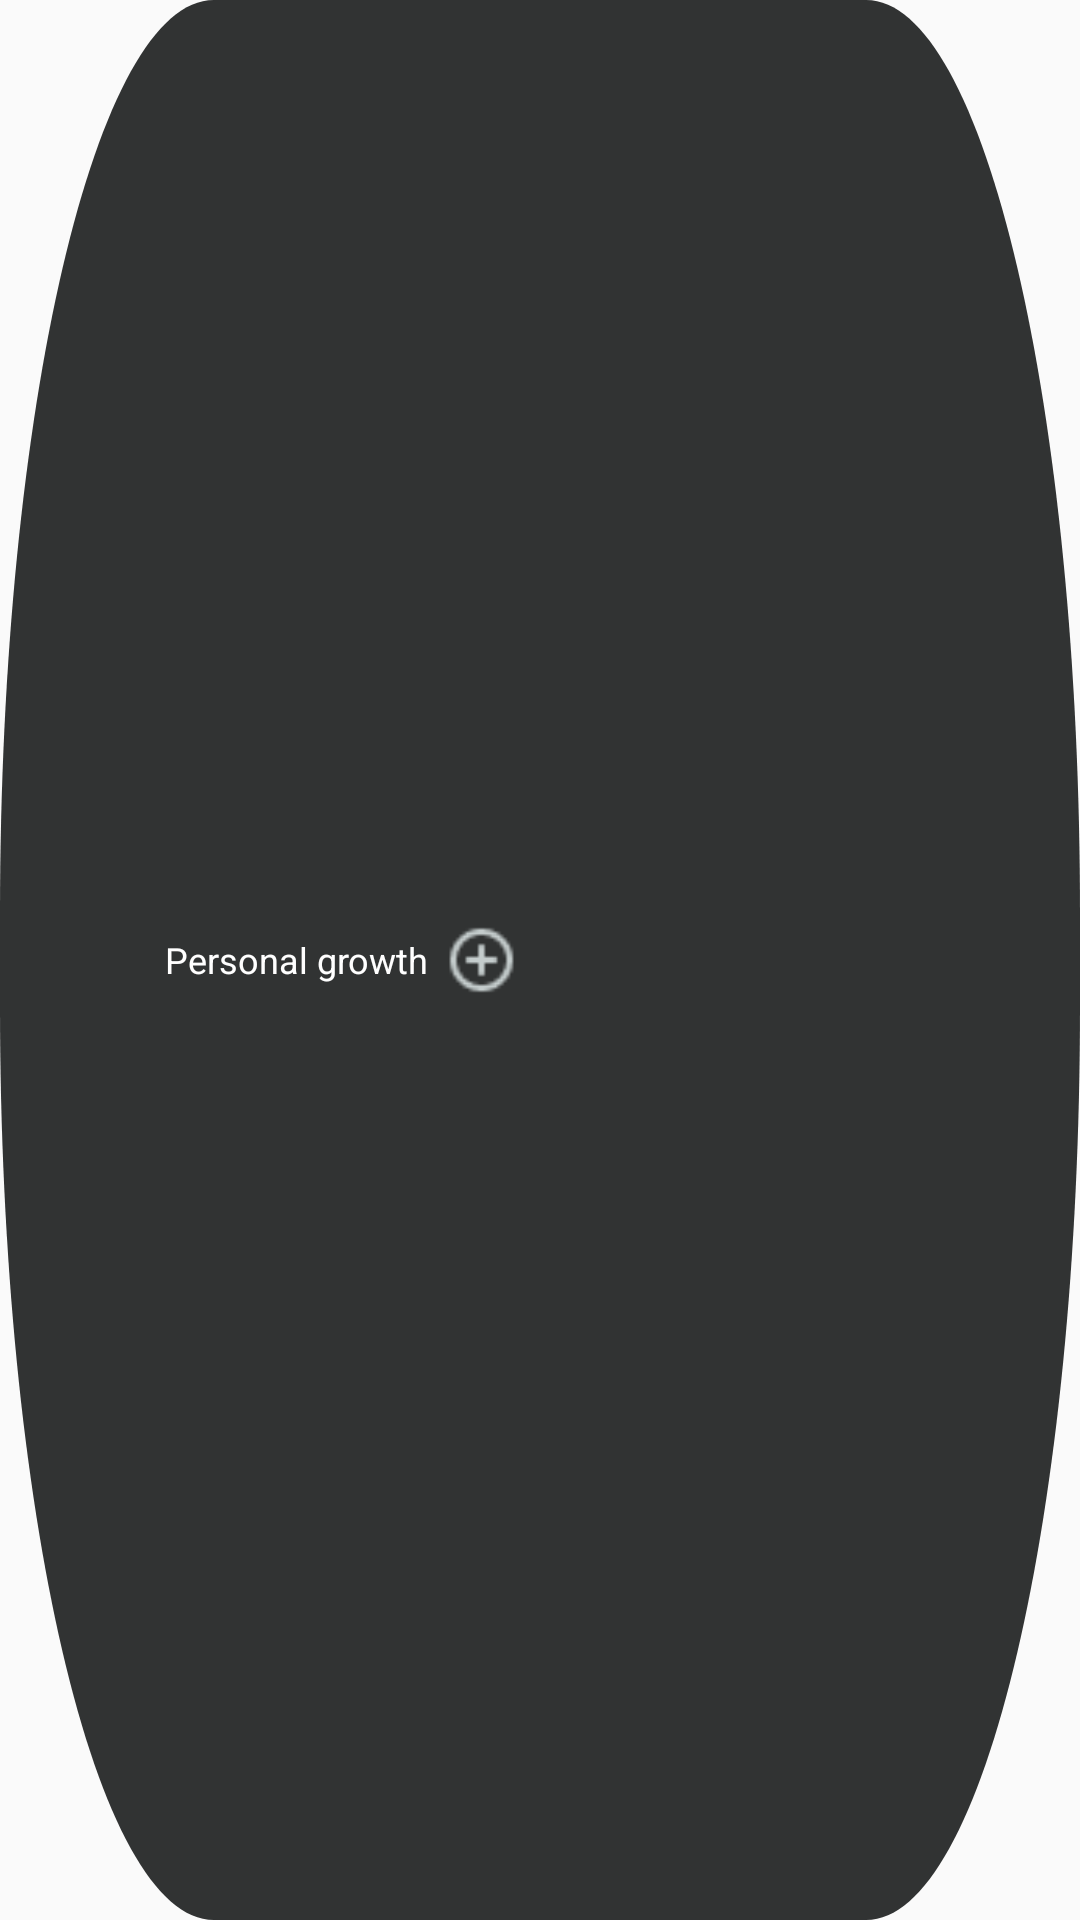

Where to tap for icons on this 1080px×1920px app screen, as [x,y]:
uil plus: [481,960]
